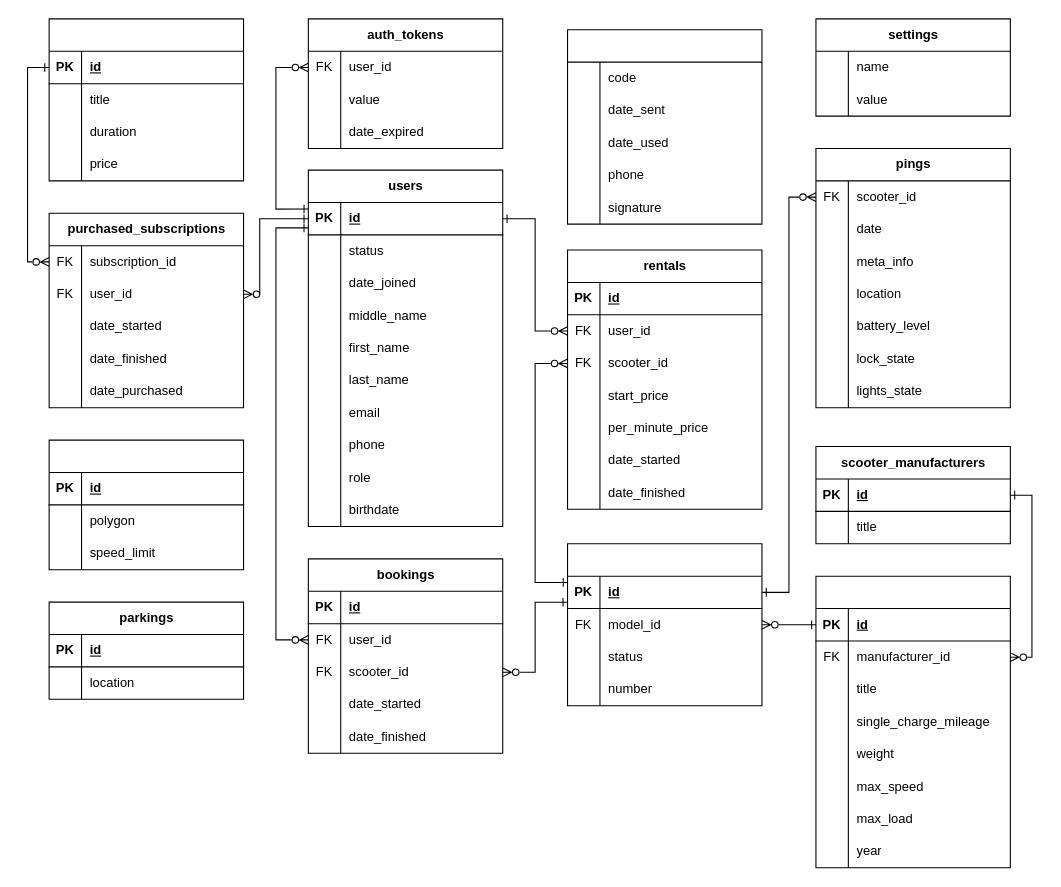
This 1061x887 diagram has some shape labels left out. The shapes that lost their labels are listed below. From the top down, each one's box as (x1, y1, x2, y2) in pixels, then its label:
(48, 18, 244, 181): subscriptions
(566, 29, 762, 224): totp
(48, 439, 244, 570): restricted_zones
(566, 543, 762, 706): scooters
(815, 575, 1010, 868): scooter_models
